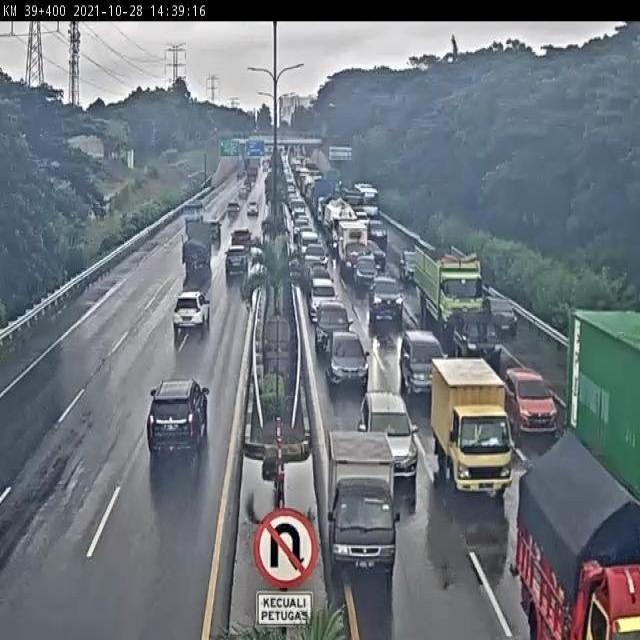big truck: (554, 297, 640, 528), (407, 236, 490, 344), (479, 281, 515, 336)
car: (142, 368, 230, 472), (359, 380, 419, 469), (492, 352, 555, 432), (154, 283, 223, 348), (320, 328, 374, 385), (395, 320, 439, 388), (309, 297, 351, 355), (365, 271, 406, 324), (217, 253, 252, 296), (225, 230, 257, 262), (244, 196, 262, 225)
mid truck: (495, 404, 640, 640), (419, 342, 504, 482), (172, 220, 219, 285)
small truck: (322, 414, 399, 562)
